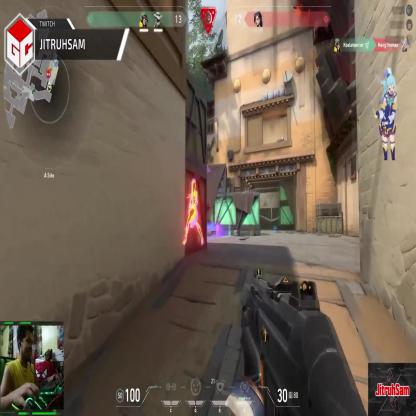enemy: (182, 179, 205, 247)
enemy_head: (191, 180, 195, 193)
